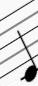note: (14, 5, 38, 83)
